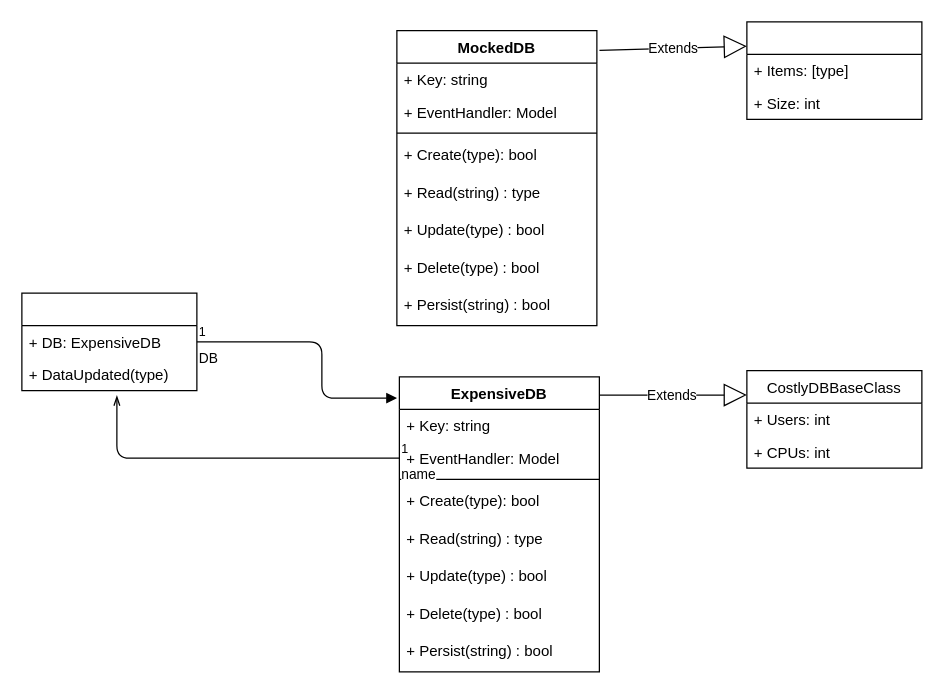
Some shapes in this 944 by 698 pixel diagram are drawn without their labels. Here are the shapes that lost their labels. From the top down, the box of each, then its label:
(746, 21, 922, 119): RamBuffer
(21, 292, 197, 391): Model
